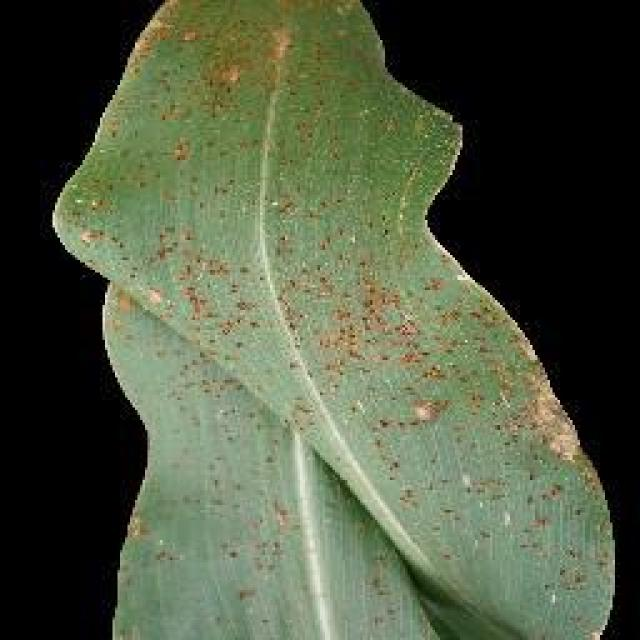Corn Common Rust: (140, 140, 548, 547)
